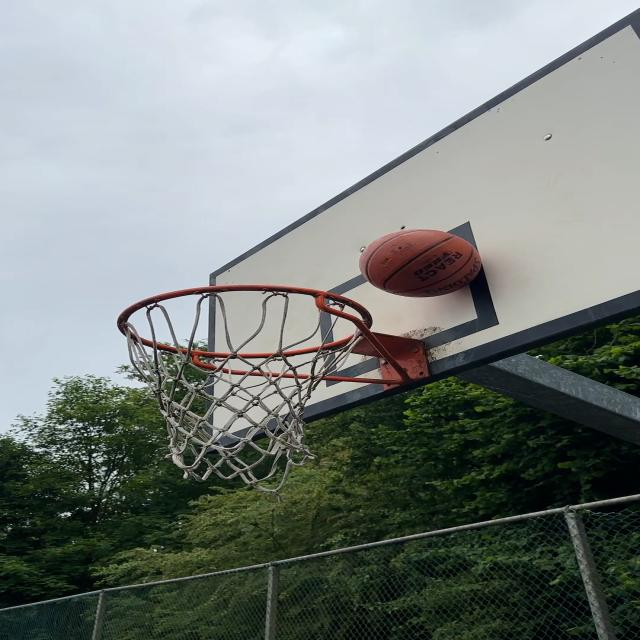rebound_hit: (367, 228, 489, 301)
